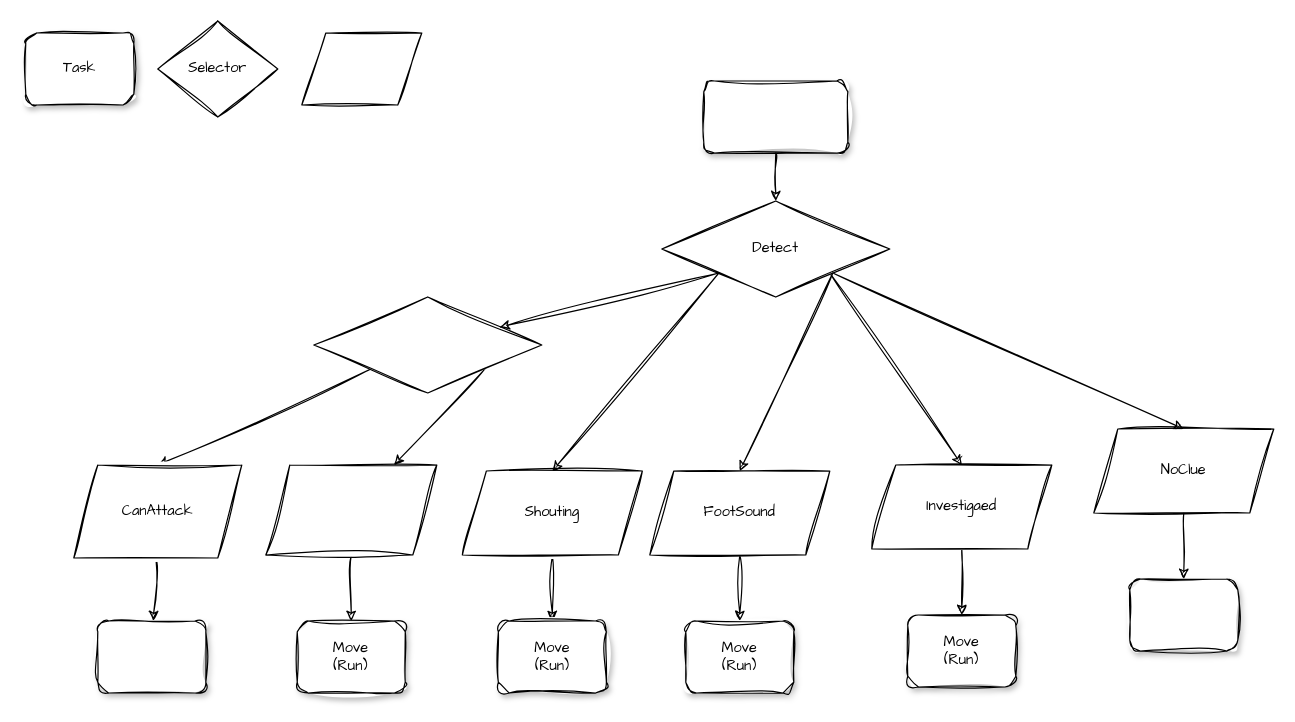
Some shapes in this 1295 by 722 pixel diagram are drawn without their labels. Here are the shapes that lost their labels. From the top down, the centre of each, then its label:
the point at 361,68: Sequence
the point at 776,118: BossZombie_ BT
the point at 427,344: CanSeePlayer
the point at 351,509: CanNotAttack
the point at 1184,616: Move (Walk)
the point at 152,658: Attack
